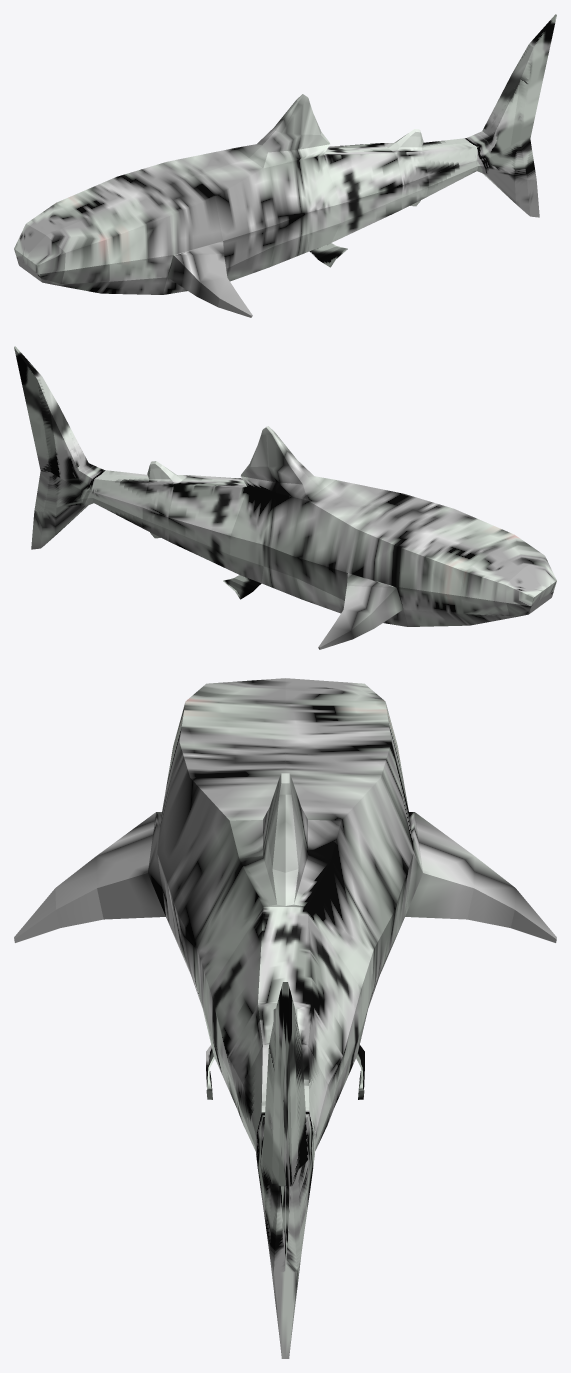
The model's file is whale-shark-camo.glb.
3 views of the same model, one above another, from view 1: azimuth 30°, elevation 25°; view 2: azimuth 150°, elevation 25°; view 3: azimuth 270°, elevation 25° (orthographic). The views are drawn at different scales.
Parts seen in each view (by area): view 1: Plane; view 2: Plane; view 3: Plane.
Part boxes in pixels (box(x1,y1,x2,y2)): Plane: box(14, 14, 556, 317); Plane: box(14, 346, 556, 649); Plane: box(14, 678, 556, 1358).
Size of the model in its own units: 4.67 by 1.67 by 2.08.
Materials: 1 (1 with a texture image).
